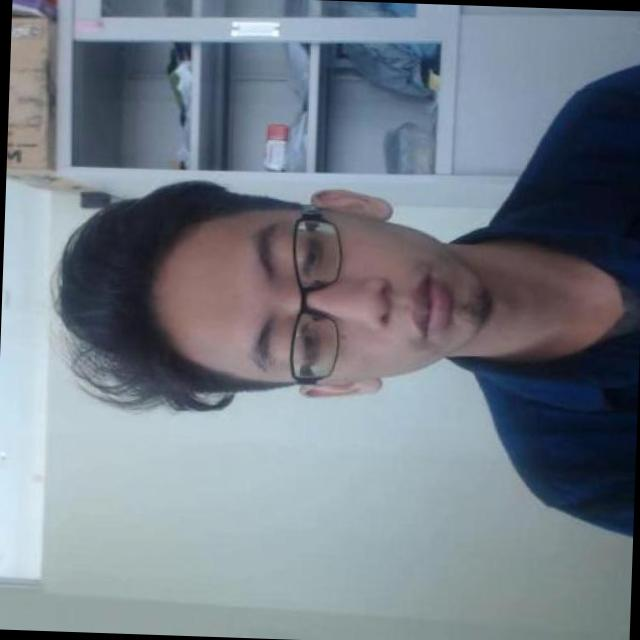bareface: (26, 148, 516, 408)
